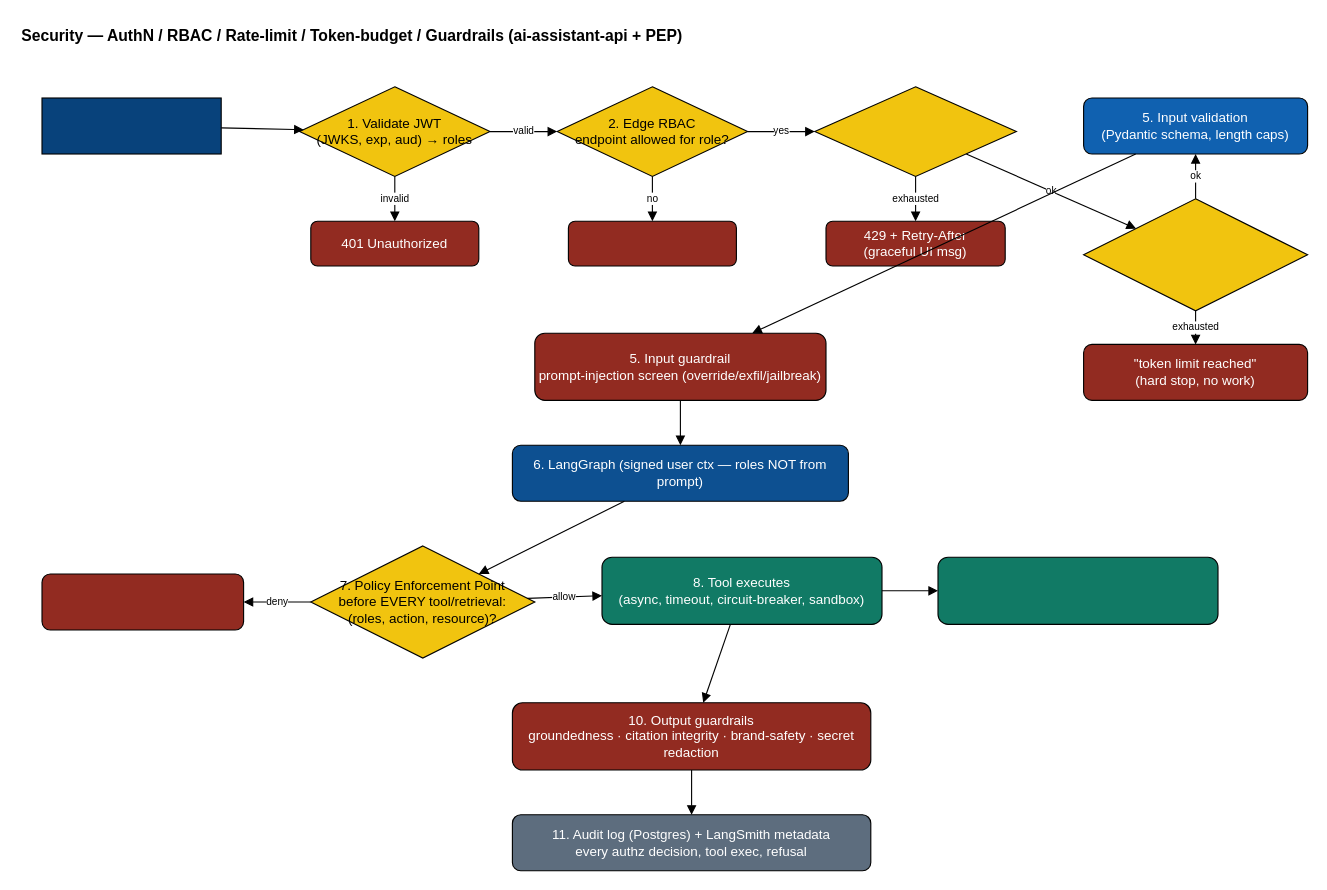
Some shapes in this 1327 by 890 pixel diagram are drawn without their labels. Each missing label, with the centre of its shape:
3. Token-bucket rate limit (Redis, per-user/role): [915,131]
4. TOKEN BUDGET (Redis via ai-conversation-service) remaining > 0 ?: [1195,254]
403 Forbidden: [651,243]
9. Retrieval access_level filter (never fetch above clearance): [1077,590]
unauthorized (traced) → tool blocked: [142,601]
User + JWT (Keycloak): [131,125]
